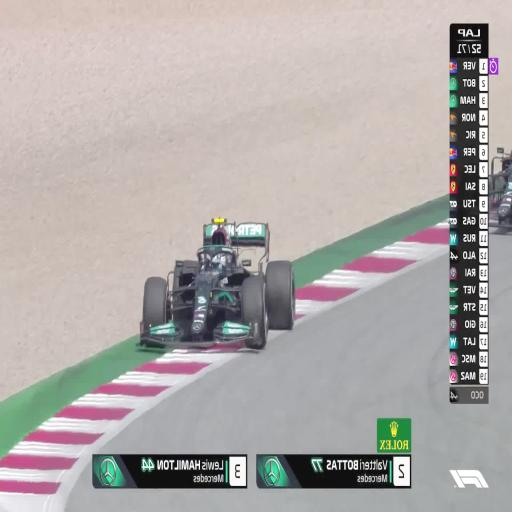f1_car: (139, 218, 295, 348), (489, 147, 512, 229)
